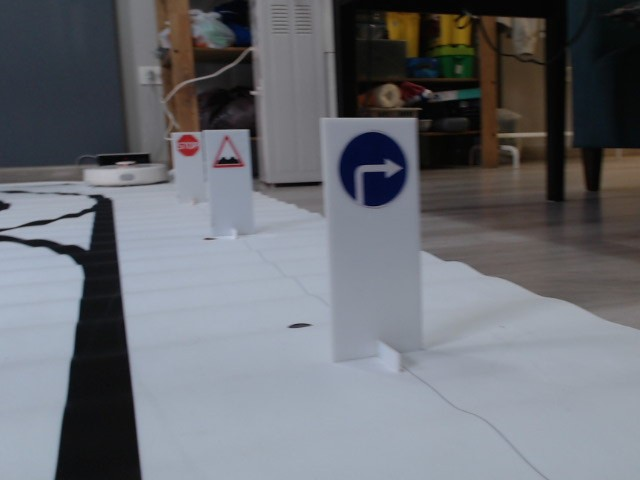Nerov: (212, 135, 244, 167)
Right: (339, 131, 406, 207)
Stop: (175, 134, 201, 158)
